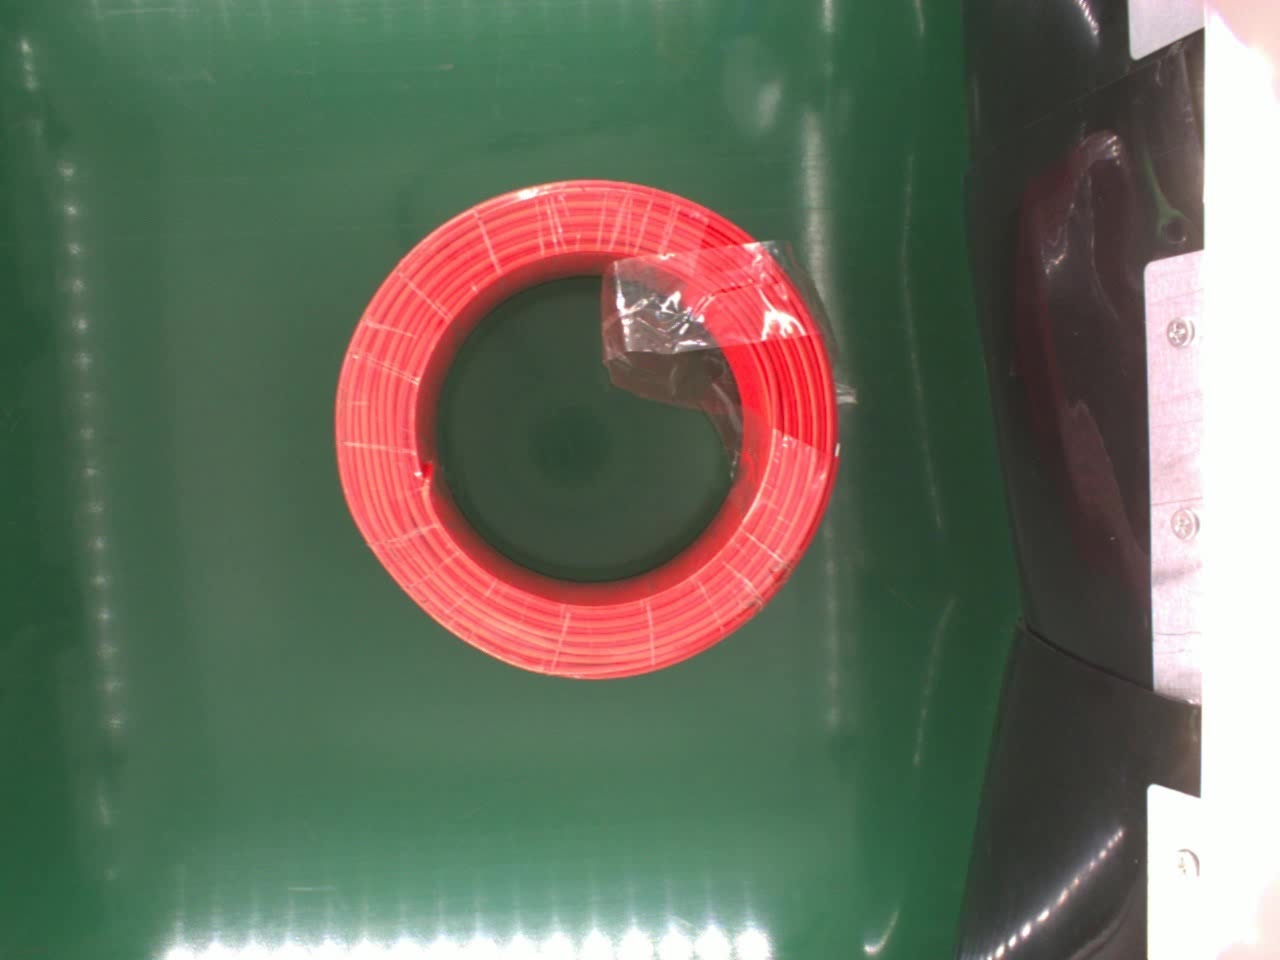red: (329, 175, 839, 687)
